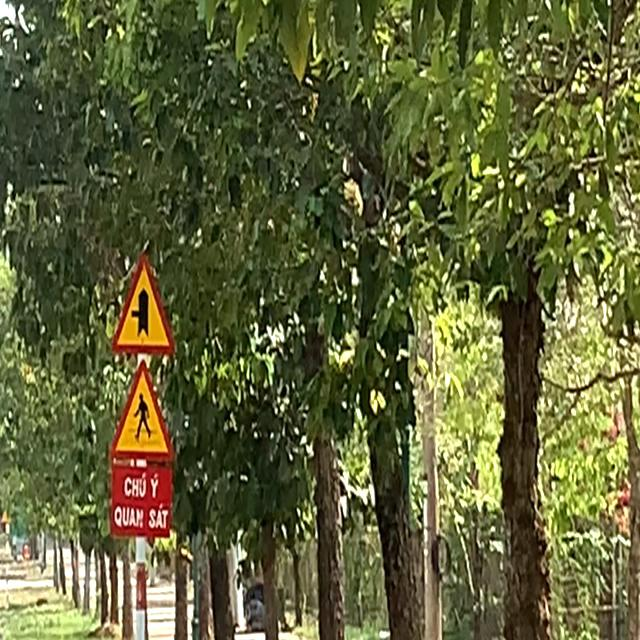Giao nhau voi duong khong uu tien ben trai: (109, 248, 177, 359)
Nguoi di bo cat ngang: (110, 354, 176, 468)
